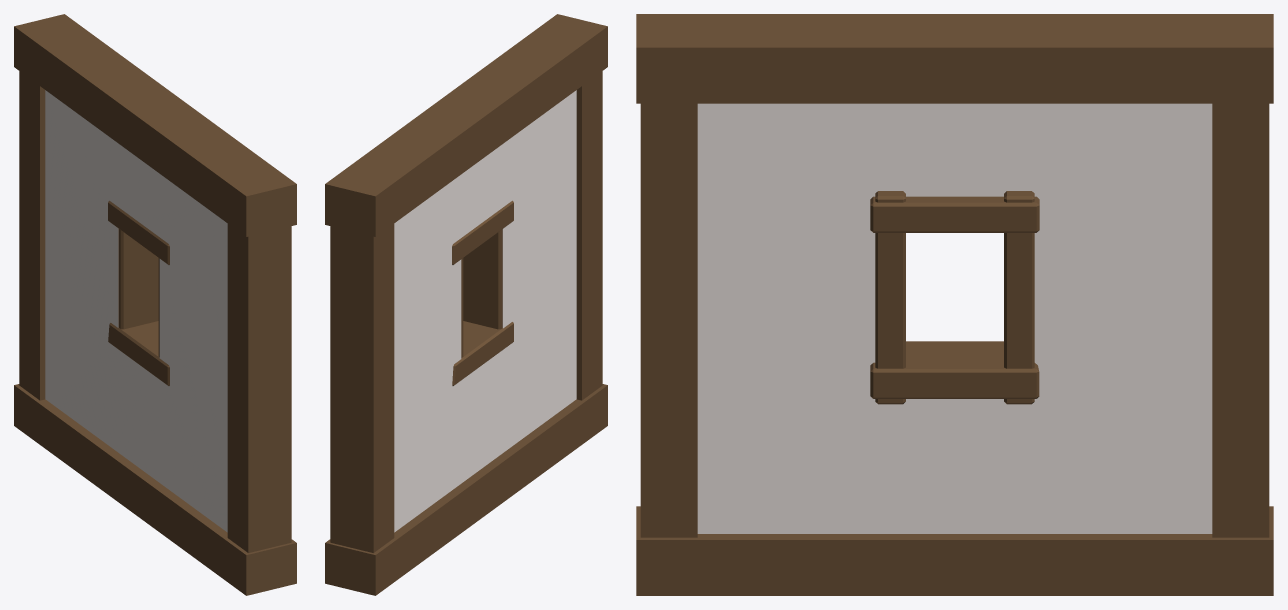
File: Wall07.fbx
3 views of the same model, side by side, from view 1: azimuth 30°, elevation 25°; view 2: azimuth 150°, elevation 25°; view 3: azimuth 270°, elevation 25° (orthographic). The views are drawn at different scales.
Visible parts, largest first — view 1: Wall_01.001; view 2: Wall_01.001; view 3: Wall_01.001.
Part boxes in pixels (<box>): Wall_01.001: <box>14,14,296,595</box>; Wall_01.001: <box>325,14,607,595</box>; Wall_01.001: <box>636,14,1273,595</box>.
Bounding box in the file's own units: 29.12 × 212 × 223.
